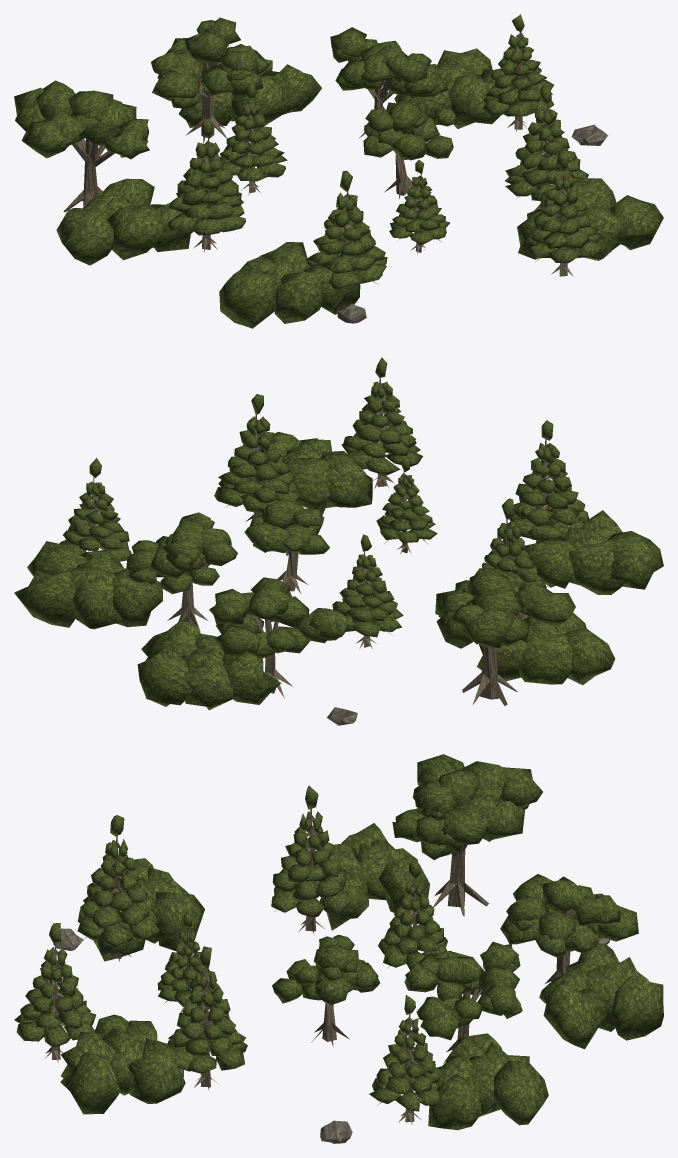
Rendered from forest_mixed_tile_a.gltf.
3 views of the same model, one above another, from view 1: azimuth 30°, elevation 25°; view 2: azimuth 150°, elevation 25°; view 3: azimuth 270°, elevation 25° (orthographic). The views are drawn at different scales.
Parts seen in each view (by area): view 1: forest_mixed_tile_a_game; view 2: forest_mixed_tile_a_game; view 3: forest_mixed_tile_a_game.
Boxes of the visible parts, x1,y1,x2,y2 form: forest_mixed_tile_a_game: (14,14,663,328); forest_mixed_tile_a_game: (14,357,663,725); forest_mixed_tile_a_game: (14,754,663,1143).
Bounding box in the file's own units: 1.54 × 0.3892 × 1.49.
3 materials, 3 textured.
